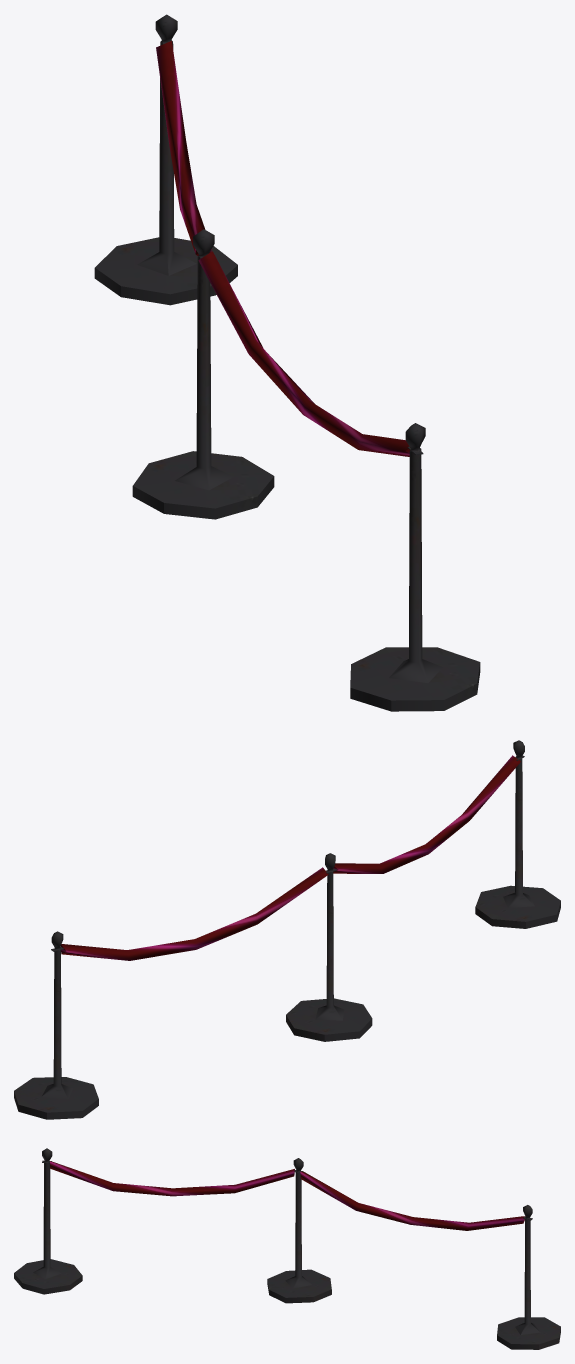
The model's file is launch-building-coon-barrier-1.glb.
3 views of the same model, one above another, from view 1: azimuth 30°, elevation 25°; view 2: azimuth 150°, elevation 25°; view 3: azimuth 270°, elevation 25° (orthographic). The views are drawn at different scales.
Visible parts, largest first — view 1: Launch_Building_Coon_Barrier_1; view 2: Launch_Building_Coon_Barrier_1; view 3: Launch_Building_Coon_Barrier_1.
Part boxes in pixels (bbox=[...]): Launch_Building_Coon_Barrier_1: bbox=[94, 14, 480, 711]; Launch_Building_Coon_Barrier_1: bbox=[14, 740, 560, 1119]; Launch_Building_Coon_Barrier_1: bbox=[14, 1148, 560, 1349].
Size of the model in its own units: 1.88 by 1.35 by 5.09.
Materials: 2 (2 with a texture image).
